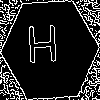H: (25, 25, 60, 73)
